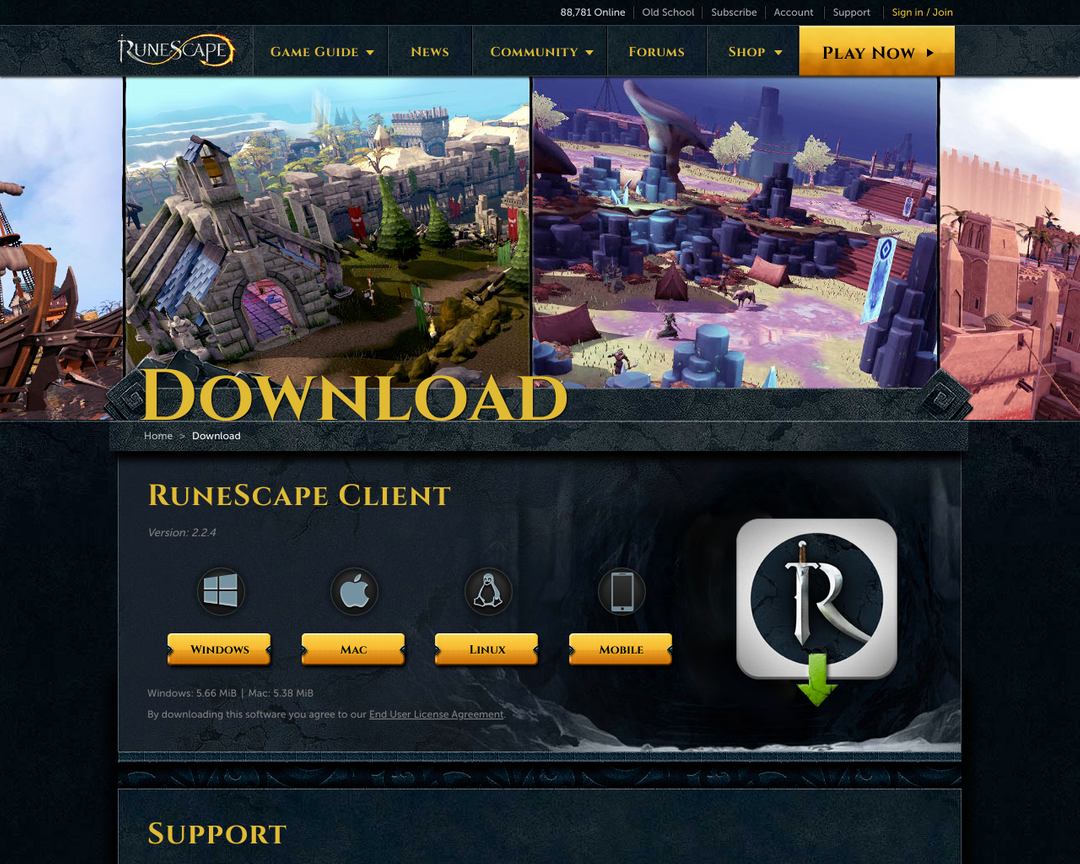Runescape: (113, 27, 240, 71)
